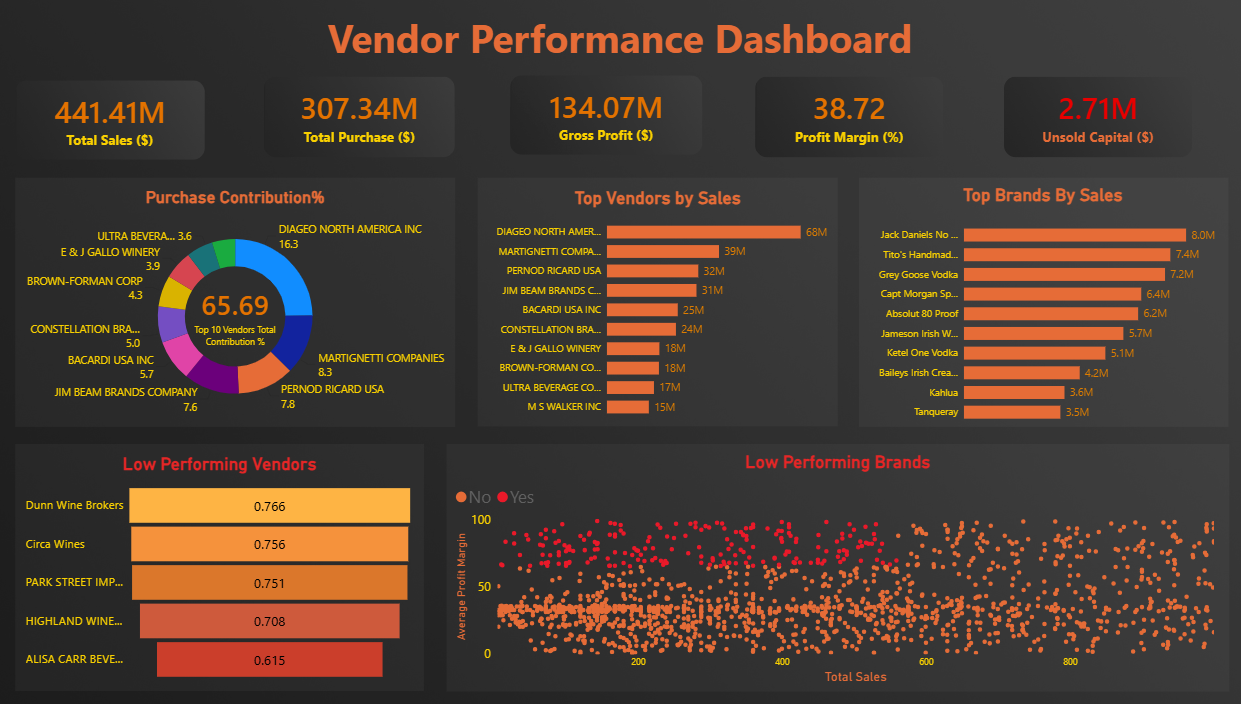

What the dashboard file says about the page in this screenshot:
{"tool":"powerbi","page":{"name":"Page 1","canvas":[1920,1080],"ordinal":0},"visuals":[{"type":"cardVisual","fields":{"Data":["Sum(vendor_sales_summary.TotalSalesDollars)"]},"box":[47.1,123.1,286.8,120.8],"z":0},{"type":"cardVisual","fields":{"Data":["Sum(vendor_sales_summary.TotalPurchaseDollars)"]},"box":[423.5,117.6,288.7,122.6],"z":1000},{"type":"cardVisual","fields":{"Data":["Sum(vendor_sales_summary.GrossProfit)"]},"box":[794.4,115.8,290.6,120.8],"z":2000},{"type":"cardVisual","fields":{"Data":["Avg(vendor_sales_summary.ProfitMargin)"]},"box":[1163.6,117.6,284.9,122.6],"z":3000},{"type":"cardVisual","fields":{"Data":["Sum(vendor_sales_summary.UnsoldCapital)"]},"box":[1539.6,117,284.9,122.6],"z":4000},{"type":"donutChart","title":"Purchase Contribution%","fields":{"Category":["PurchaseContribution.VendorName"],"Y":["Sum(PurchaseContribution.PurchaseContribution%)"]},"box":[48,269.3,663.8,375.7],"z":5000},{"type":"barChart","title":"Top Vendors by Sales","fields":{"Category":["vendor_sales_summary.VendorName"],"Y":["Sum(vendor_sales_summary.TotalSalesDollars)"]},"box":[745.2,269.3,543.4,375.5],"z":6000},{"type":"barChart","title":"Top Brands By Sales","fields":{"Category":["vendor_sales_summary.Description"],"Y":["Sum(vendor_sales_summary.TotalSalesDollars)"]},"box":[1321.3,269.3,557.3,375.7],"z":7000},{"type":"funnel","title":"Low Performing Vendors","fields":{"Category":["LowTurnoverVendor.VendorName"],"Y":["Avg(LowTurnoverVendor.AvgStockTurnOver)"]},"box":[47.1,671.4,617.1,372.8],"z":8000},{"type":"textbox","box":[0,18.9,1920.4,98.1],"z":9000},{"type":"scatterChart","title":"Low Performing Brands","fields":{"Category":["BrandPerformance1.Description"],"Series":["BrandPerformance1.TargetBrand"],"X":["Sum(BrandPerformance1.TotalSales)"],"Y":["Sum(BrandPerformance1.AvgProfitMargin)"]},"box":[697.2,672.1,1181.5,373.6],"z":10000}]}

Visuals, with their boxes in screenshot pixels (x1, y1, x2, y2), scaled from the page's 1920x1080 canvas onto the 1241x704 screenshot:
cardVisual - Sum(vendor_sales_summary.TotalSalesDollars): (x1=30, y1=80, x2=216, y2=159)
cardVisual - Sum(vendor_sales_summary.TotalPurchaseDollars): (x1=274, y1=77, x2=460, y2=157)
cardVisual - Sum(vendor_sales_summary.GrossProfit): (x1=513, y1=75, x2=701, y2=154)
cardVisual - Avg(vendor_sales_summary.ProfitMargin): (x1=752, y1=77, x2=936, y2=157)
cardVisual - Sum(vendor_sales_summary.UnsoldCapital): (x1=995, y1=76, x2=1179, y2=156)
"Purchase Contribution%" donutChart: (x1=31, y1=176, x2=460, y2=420)
"Top Vendors by Sales" barChart: (x1=482, y1=176, x2=833, y2=420)
"Top Brands By Sales" barChart: (x1=854, y1=176, x2=1214, y2=420)
"Low Performing Vendors" funnel: (x1=30, y1=438, x2=429, y2=681)
textbox: (x1=0, y1=12, x2=1240, y2=76)
"Low Performing Brands" scatterChart: (x1=451, y1=438, x2=1214, y2=682)
